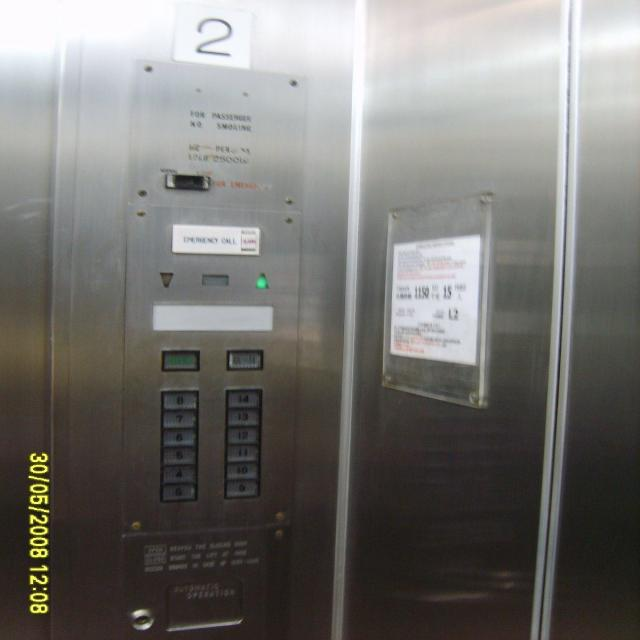10: (223, 460, 260, 480)
11: (224, 442, 262, 462)
12: (224, 425, 262, 445)
13: (224, 407, 262, 428)
14: (223, 385, 264, 409)
4: (159, 464, 198, 484)
5: (159, 446, 199, 466)
6: (159, 427, 199, 448)
7: (159, 409, 199, 430)
8: (158, 386, 199, 412)
9: (223, 478, 261, 499)
blur: (158, 483, 199, 501)
keyhole: (129, 610, 155, 631)
led: (170, 2, 251, 70)
text_blur: (158, 348, 202, 372), (224, 346, 266, 371)
